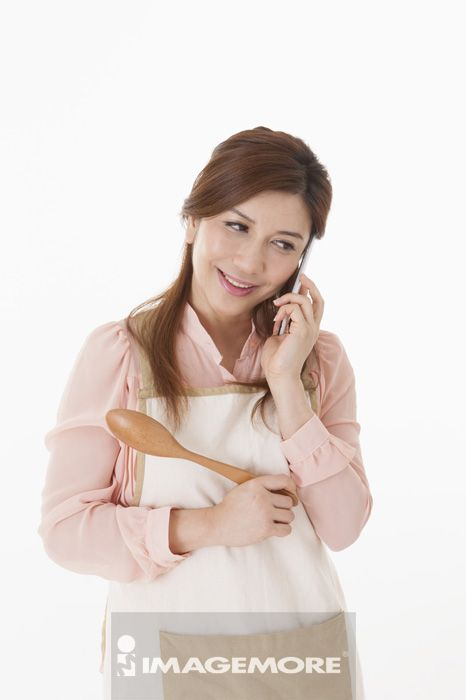phone: (276, 244, 312, 339)
talk: (203, 205, 325, 382)
